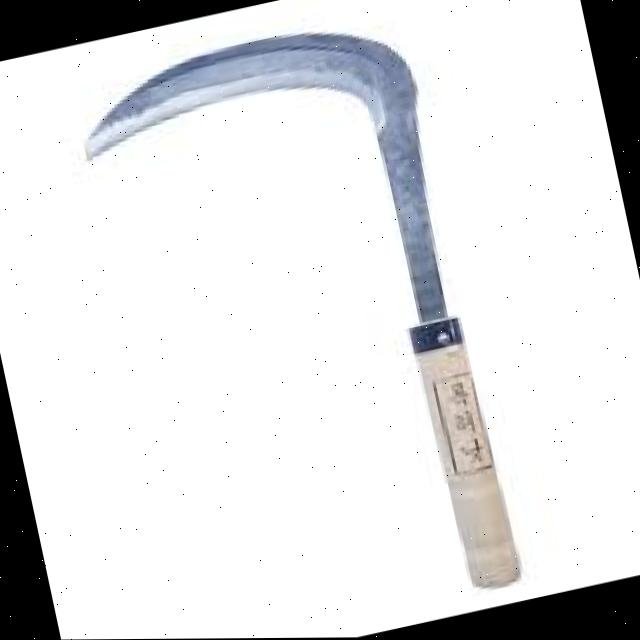sickle: (33, 0, 610, 640)
